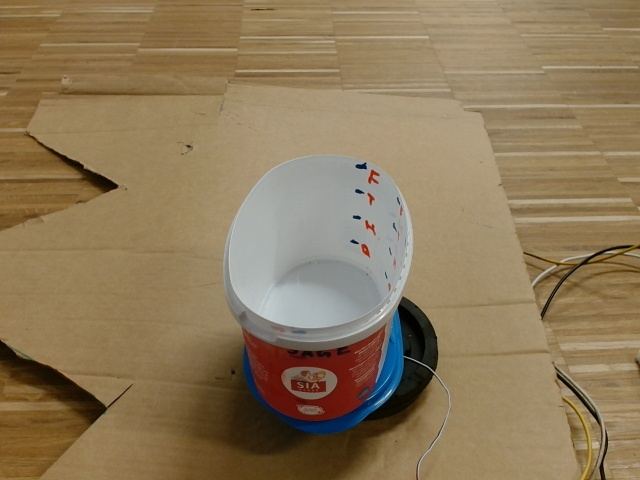Big_zero: (225, 152, 414, 339)
